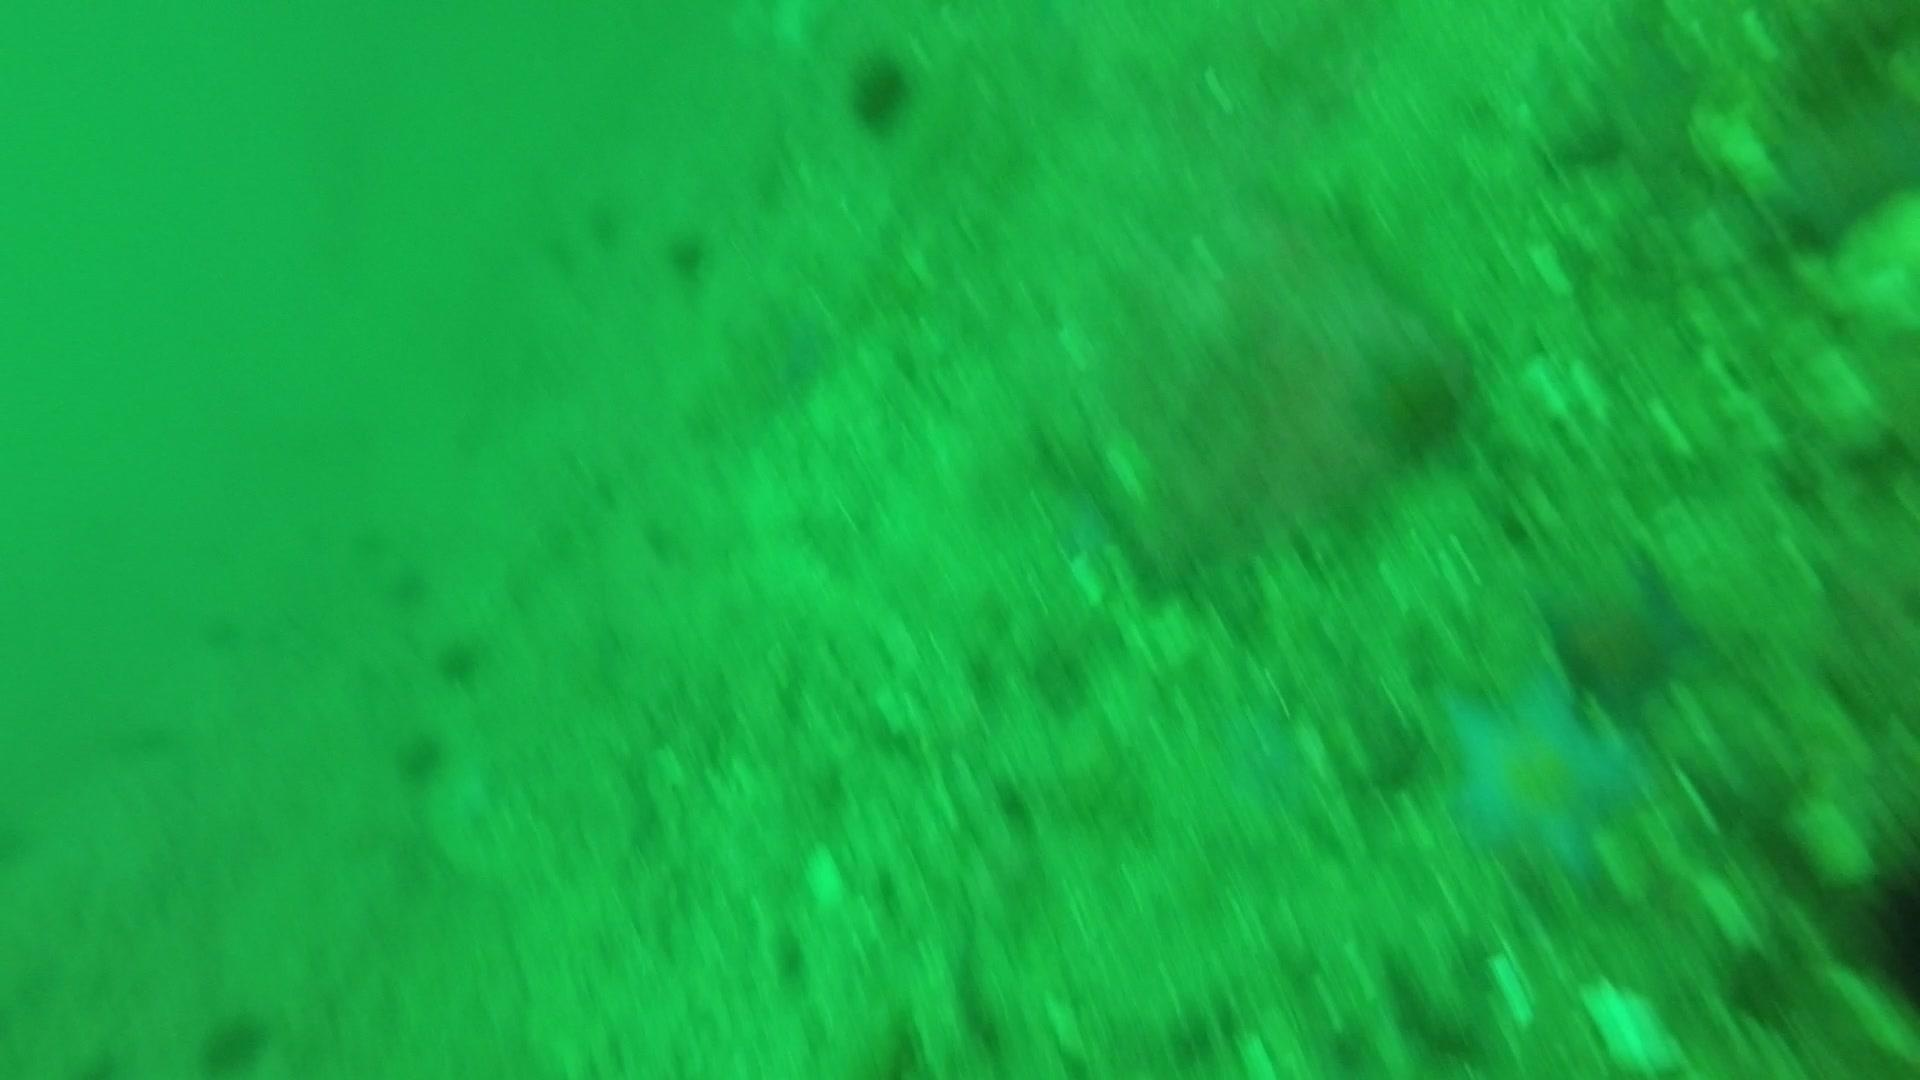echinus: (1365, 355, 1476, 465), (1847, 849, 1919, 1009), (843, 49, 920, 136), (195, 1007, 273, 1073), (390, 727, 451, 787), (661, 225, 716, 282), (433, 633, 489, 687), (582, 193, 628, 249), (384, 560, 435, 611)
starfish: (1431, 666, 1648, 887), (1535, 554, 1709, 715)
